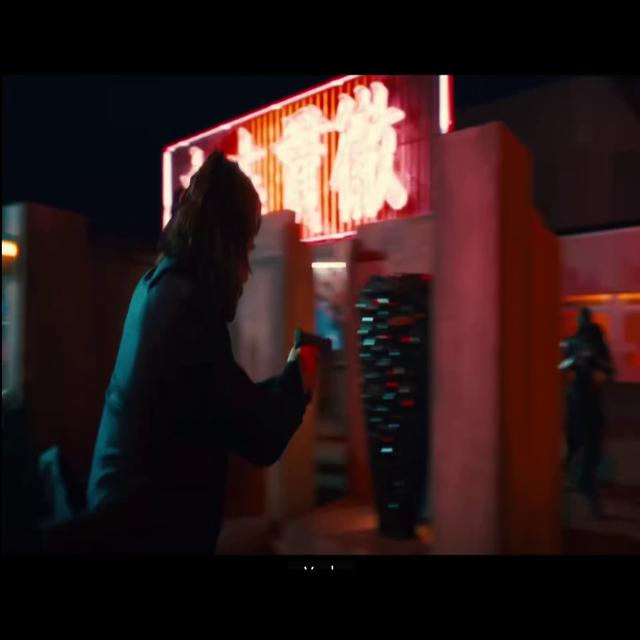weapons: (280, 311, 340, 404)
